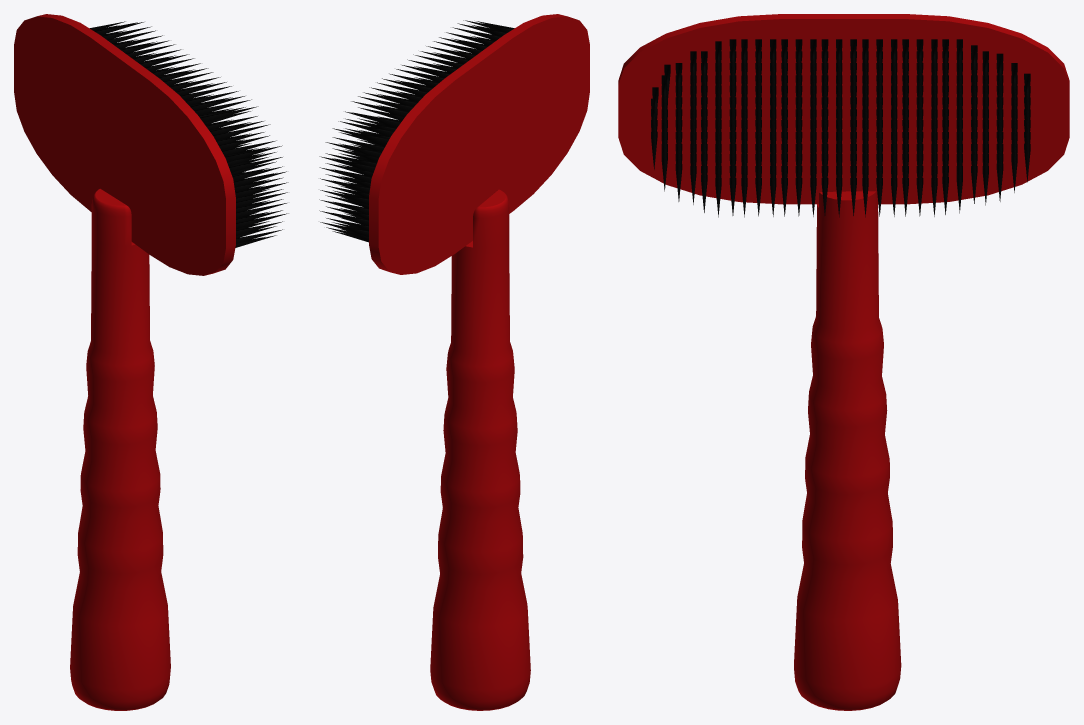
File: Tarak.fbx
3 renders of one model, left to right at view 1: azimuth 30°, elevation 25°; view 2: azimuth 150°, elevation 25°; view 3: azimuth 270°, elevation 25°, orthographic. The views are drawn at different scales.
Visible parts, largest first — view 1: Comb; view 2: Comb; view 3: Comb.
Part boxes in pixels (x1,y1,x2,y2): Comb: [14, 14, 288, 710]; Comb: [319, 14, 589, 710]; Comb: [618, 14, 1069, 710].
Bounding box in the file's own units: 4.49 × 22.31 × 13.48.
